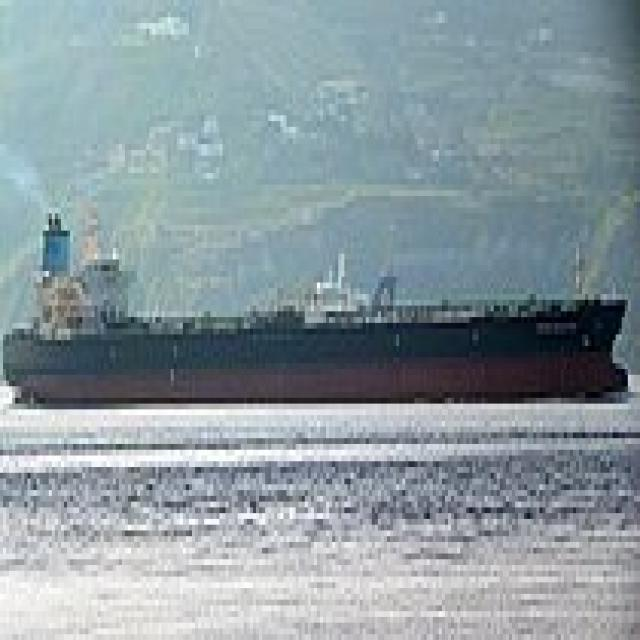Tanker: (0, 202, 631, 404)
